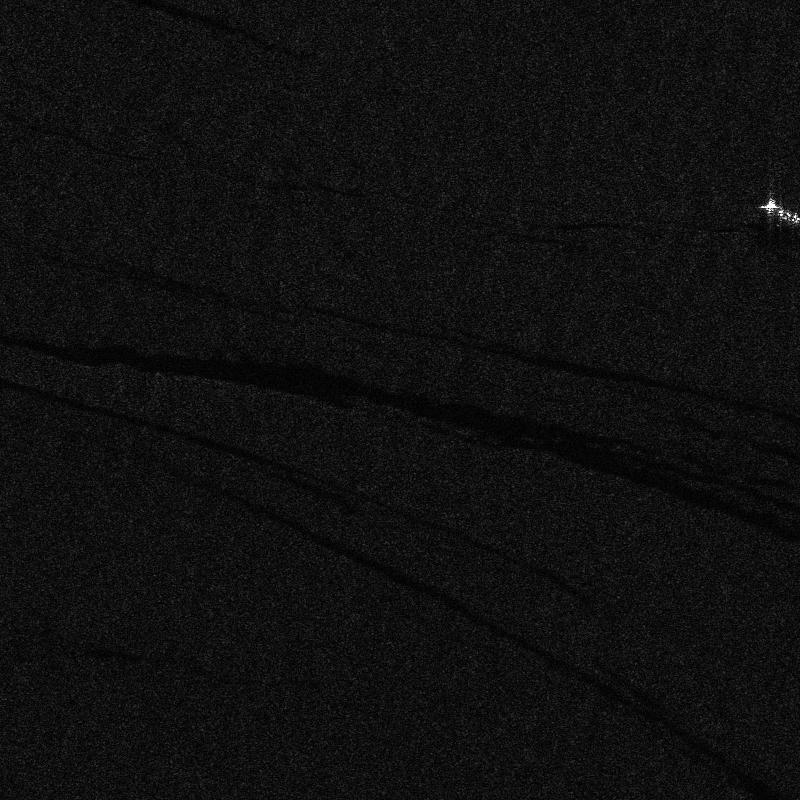ship: (759, 198, 799, 226)
